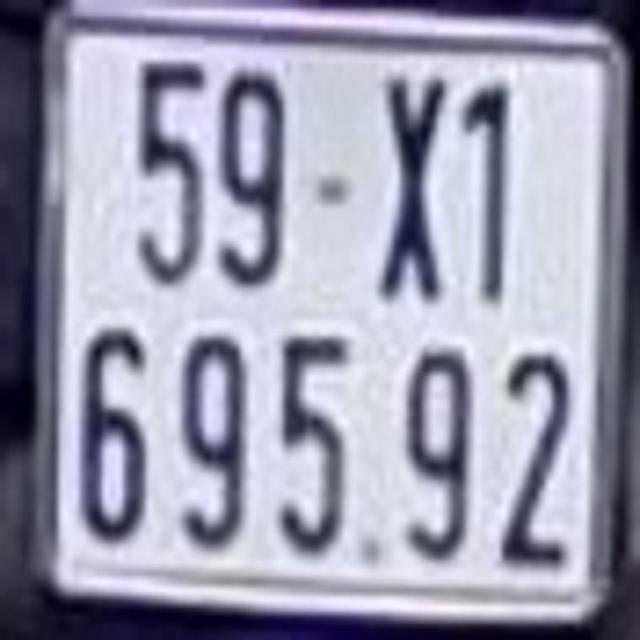1: (459, 75, 514, 304)
2: (502, 347, 570, 568)
5: (276, 327, 351, 556), (133, 58, 207, 285)
6: (78, 324, 148, 543)
9: (216, 64, 288, 288), (177, 329, 249, 550), (402, 342, 472, 561)
X: (379, 72, 445, 301)
